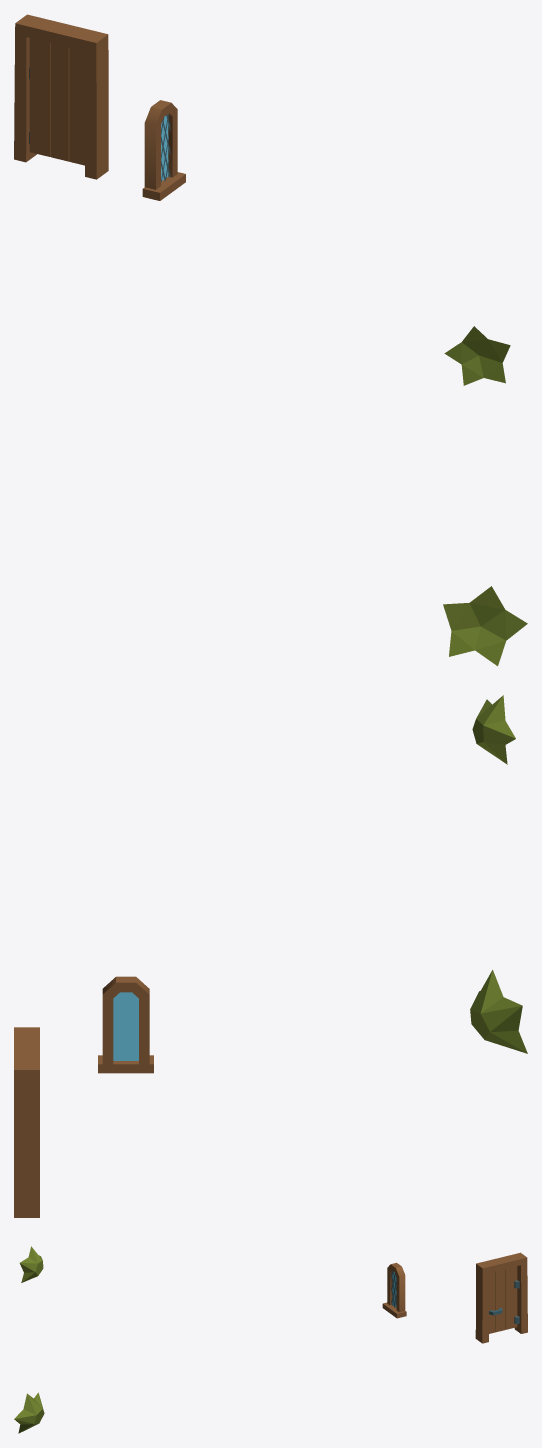
3 views of the same model, one above another, from view 1: azimuth 30°, elevation 25°; view 2: azimuth 150°, elevation 25°; view 3: azimuth 270°, elevation 25° (orthographic). The views are drawn at different scales.
Visible parts, largest first — view 1: Object238_brown_0, Box16073_green2_0, Box16088_green2_0, Plane400_brown_0; view 2: Object238_brown_0, Box16073_green2_0, Plane400_brown_0, Plane402_mirror_0, Box16088_green2_0, Box15652_brown_0; view 3: Object238_brown_0, Box16073_green2_0, Plane400_brown_0, Box16088_green2_0.
Boxes of the visible parts, left/top/right/bottom form: Object238_brown_0: left=14, top=14, right=108, bottom=179; Box16073_green2_0: left=443, top=586, right=527, bottom=666; Box16088_green2_0: left=444, top=326, right=510, bottom=385; Plane400_brown_0: left=144, top=100, right=177, bottom=189; Object238_brown_0: left=14, top=1027, right=39, bottom=1217; Box16073_green2_0: left=470, top=970, right=527, bottom=1053; Plane400_brown_0: left=102, top=976, right=149, bottom=1065; Plane402_mirror_0: left=113, top=992, right=138, bottom=1060; Box16088_green2_0: left=472, top=695, right=515, bottom=764; Box15652_brown_0: left=98, top=1055, right=153, bottom=1073; Object238_brown_0: left=475, top=1252, right=527, bottom=1343; Box16073_green2_0: left=14, top=1392, right=44, bottom=1433; Plane400_brown_0: left=387, top=1262, right=405, bottom=1312; Box16088_green2_0: left=19, top=1246, right=43, bottom=1282.
Bounding box in the file's own units: 123 × 574 × 1449.
